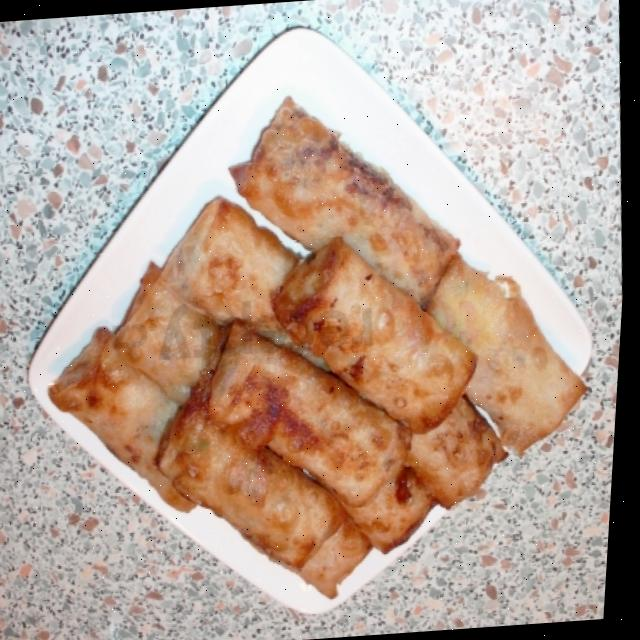炸货点心: (0, 40, 638, 638)
